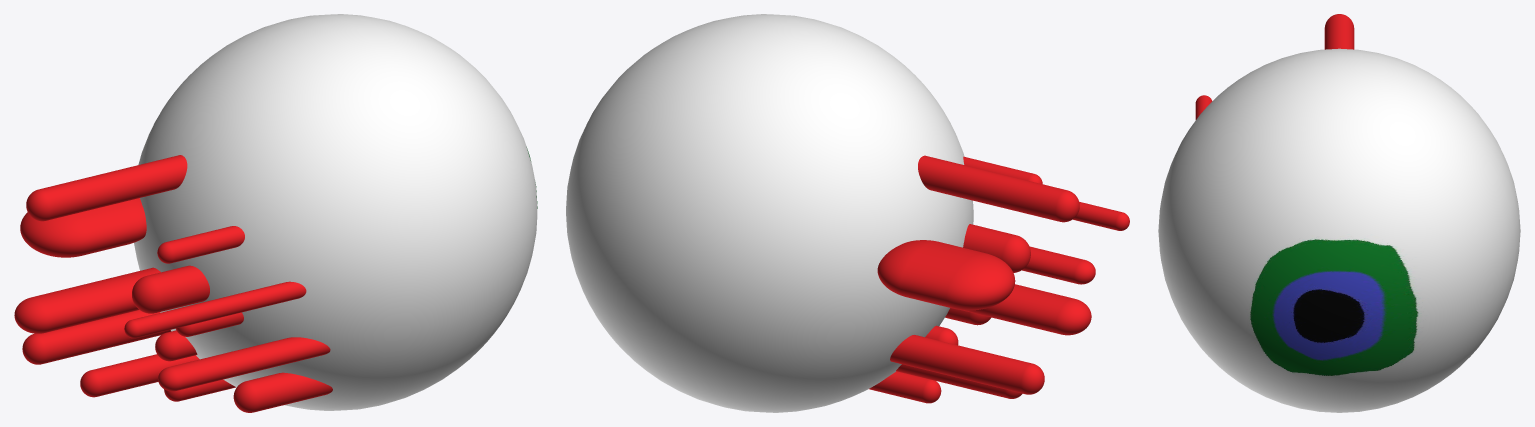
Rendered from eye2.fbx.
3 renders of one model, left to right at view 1: azimuth 30°, elevation 25°; view 2: azimuth 150°, elevation 25°; view 3: azimuth 270°, elevation 25°, orthographic. The views are drawn at different scales.
Visible parts, largest first — view 1: node_id162, node_id150, node_id144, node_id142, node_id156, node_id154, node_id166, node_id148, node_id160, node_id158, node_id152, node_id164 (+2 smaller); view 2: node_id162, node_id144, node_id150, node_id166, node_id142, node_id148, node_id156, node_id168, node_id158, node_id154, node_id152; view 3: node_id162, node_id150.
Part boxes in pixels (x1,y1,x2,y2): node_id162: (134,14,537,410); node_id150: (26,155,187,221); node_id144: (20,198,146,257); node_id142: (14,267,160,333); node_id156: (158,337,330,391); node_id154: (124,281,306,338); node_id166: (22,310,171,364); node_id148: (132,265,209,313); node_id160: (233,372,332,412); node_id158: (80,354,199,397); node_id152: (157,226,244,263); node_id164: (155,330,197,361); node_id162: (566,14,973,412); node_id144: (877,240,1015,310); node_id150: (918,155,1079,222); node_id166: (890,335,1044,394); node_id142: (961,284,1091,335); node_id148: (963,224,1030,272); node_id156: (1022,246,1095,284); node_id168: (869,371,941,403); node_id158: (896,364,1022,398); node_id154: (1073,202,1129,230); node_id152: (963,156,1042,184); node_id162: (1158,48,1520,412); node_id150: (1324,14,1354,49).
Size of the model in its own units: 0.512 by 0.3559 by 0.3559.
Materials: 14 (14 with a texture image).
